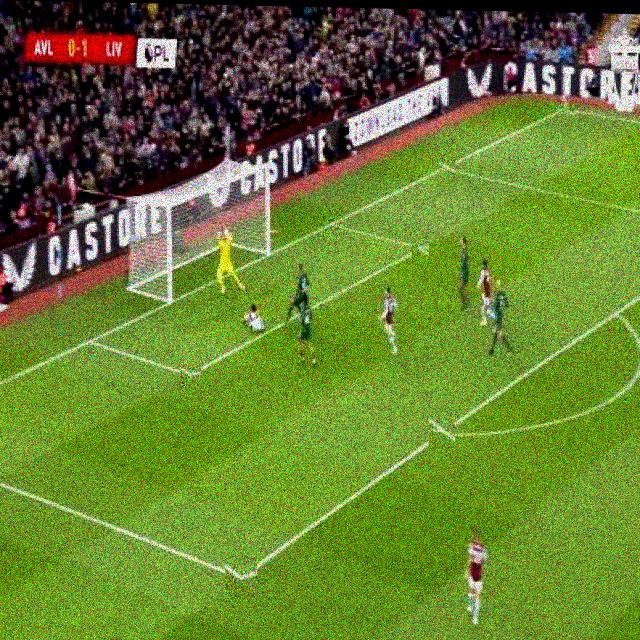bigarea_bottom_inner: (225, 555, 257, 603)
bigarea_top_outter: (439, 156, 455, 181)
bottom_arc_area_intersection: (429, 413, 455, 454)
corner: (556, 101, 574, 117)
smallarea_bottom_inner: (180, 361, 201, 388)
smallarea_bottom_outter: (82, 325, 101, 359)
smallarea_top_inner: (412, 231, 429, 267)
smallarea_top_outter: (323, 208, 343, 241)
top_arc_area_intersection: (608, 295, 632, 334)
